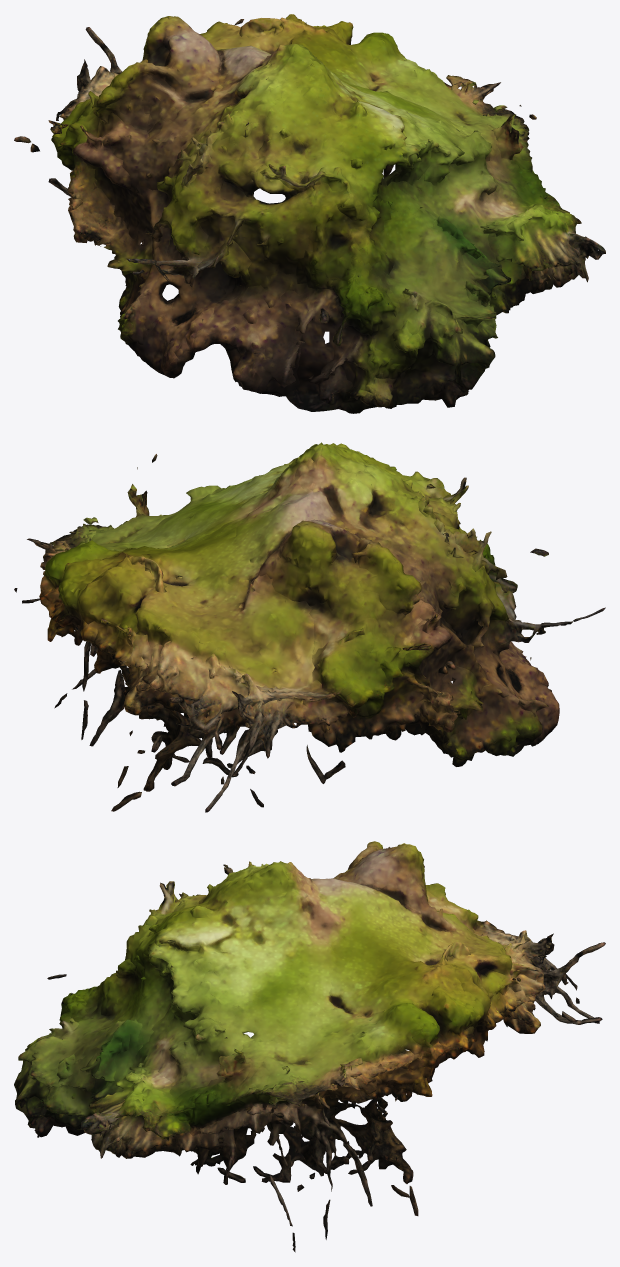
The model's file is sculpt10.glb.
The picture shows the model from 3 angles, top to bottom: view 1: azimuth 30°, elevation 25°; view 2: azimuth 150°, elevation 25°; view 3: azimuth 270°, elevation 25°; orthographic projection. The views are drawn at different scales.
Parts seen in each view (by area): view 1: mesh; view 2: mesh; view 3: mesh.
Part boxes in pixels (x1,y1,x2,y2): mesh: (14,14,605,413); mesh: (14,442,605,812); mesh: (14,841,605,1252).
Bounding box in the file's own units: 0.6962 × 0.4632 × 0.8333.
1 material, 1 textured.
